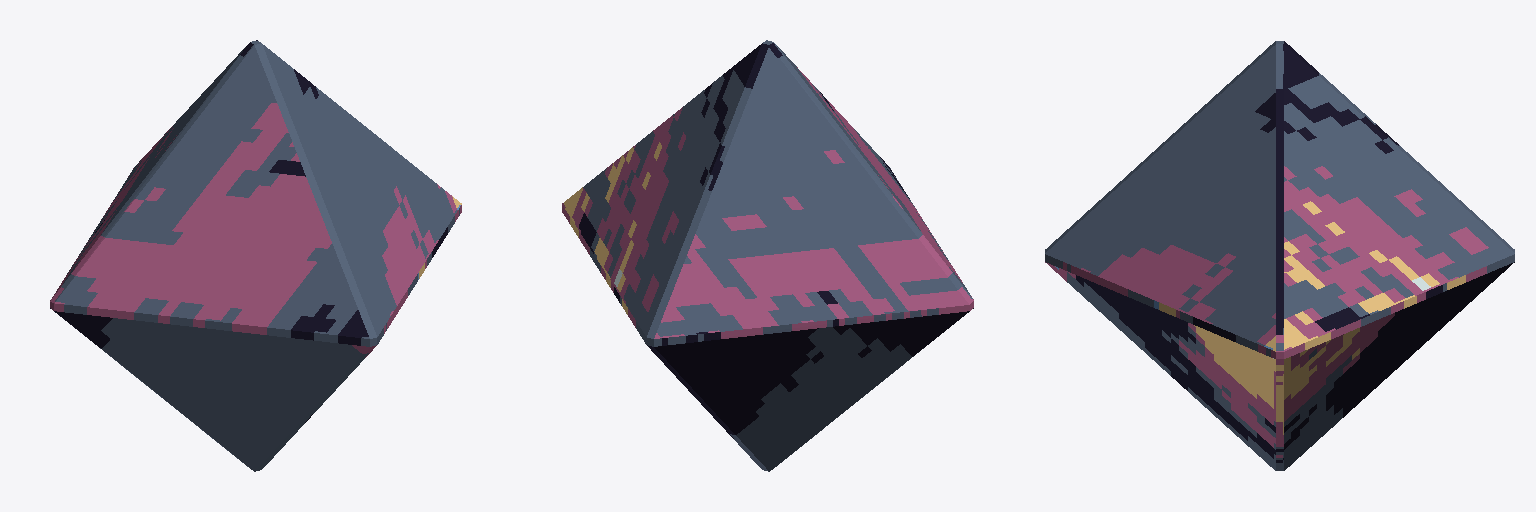
The picture shows the model from 3 angles: view 1: azimuth 30°, elevation 25°; view 2: azimuth 150°, elevation 25°; view 3: azimuth 270°, elevation 25°; orthographic projection.
Visible parts, largest first — view 1: Cube; view 2: Cube; view 3: Cube.
Boxes of the visible parts, box(x1,y1,x2,y2) form: Cube: box(50, 40, 461, 471); Cube: box(562, 40, 973, 471); Cube: box(1045, 41, 1514, 470).
Size of the model in its own units: 2 by 2 by 2.
Materials: 1 (1 with a texture image).